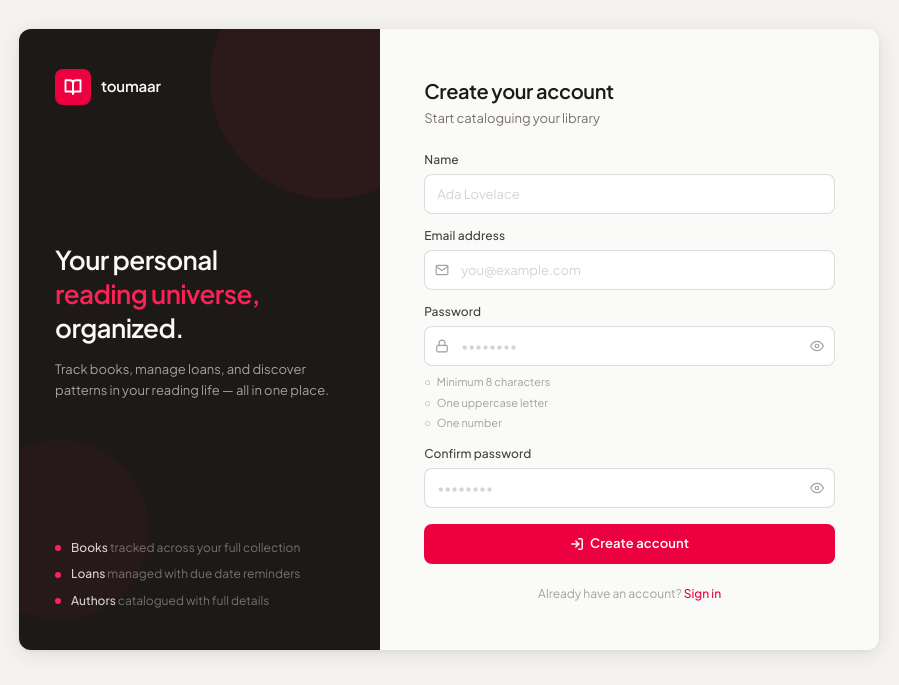
it: SignupPage › shows an error when the passwords do not match
The width and height of the screenshot is (899, 685).
Type "Ada" into the field labelled "Name" at (630,194), box left=424, top=174, right=835, bottom=214
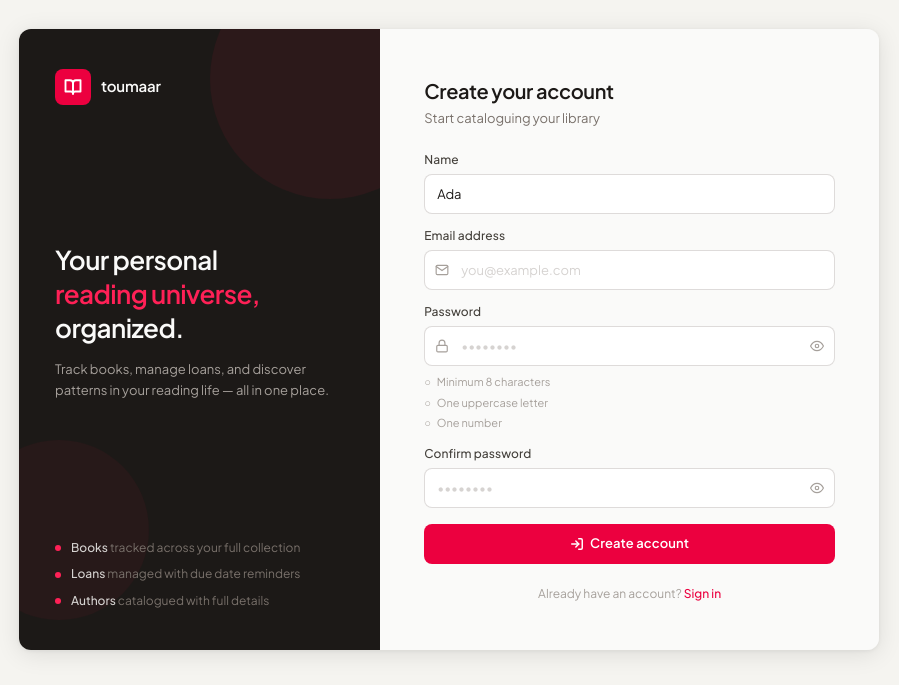
Type "ada@example.com" into the field labelled "Email address" at (630,270), box left=424, top=250, right=835, bottom=290
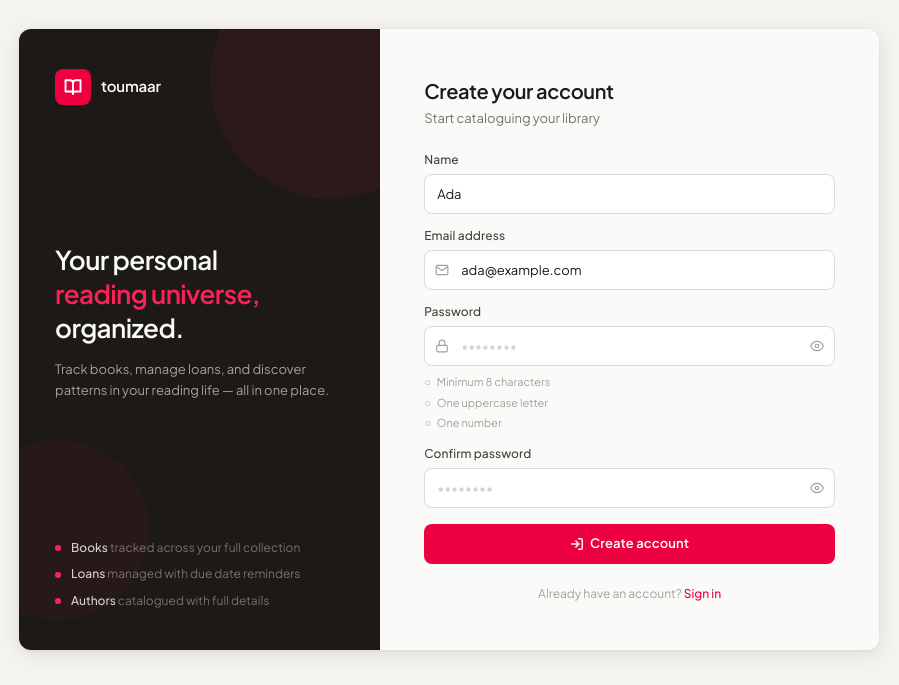
Type "Passw0rd" into the password field labelled "Password" at (630,346), box left=424, top=326, right=835, bottom=366
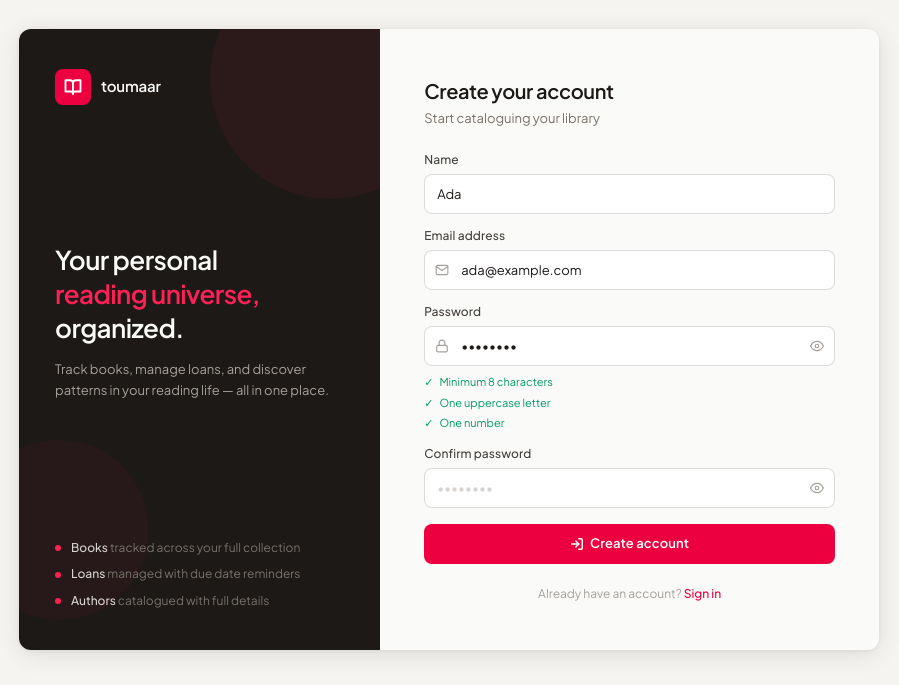
Type "Different1" into the password field labelled "Confirm password" at (630,488), box left=424, top=468, right=835, bottom=508
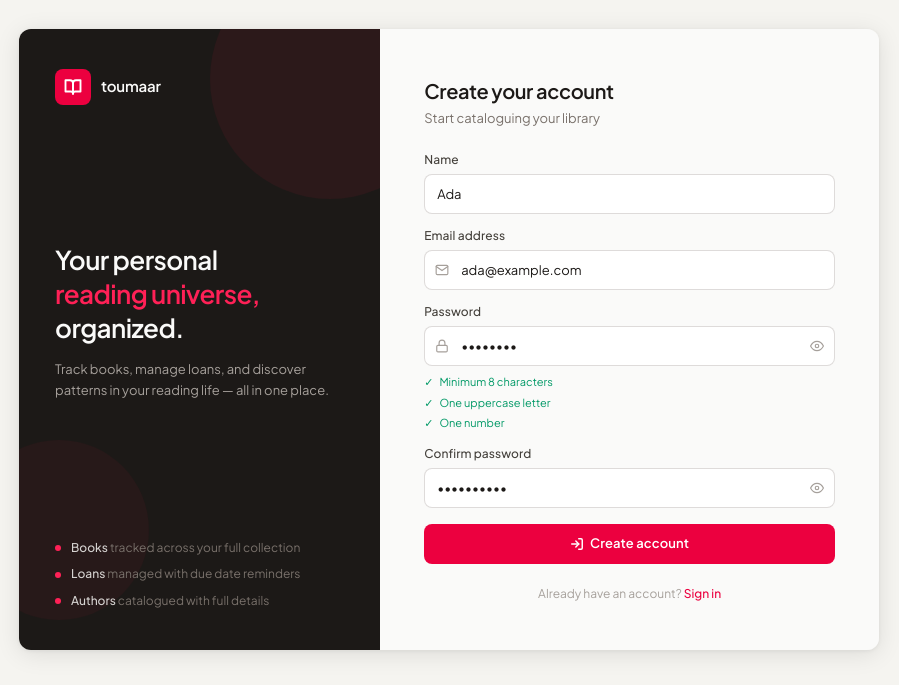
Click the button "Create account" at (630,544), box left=424, top=524, right=835, bottom=564
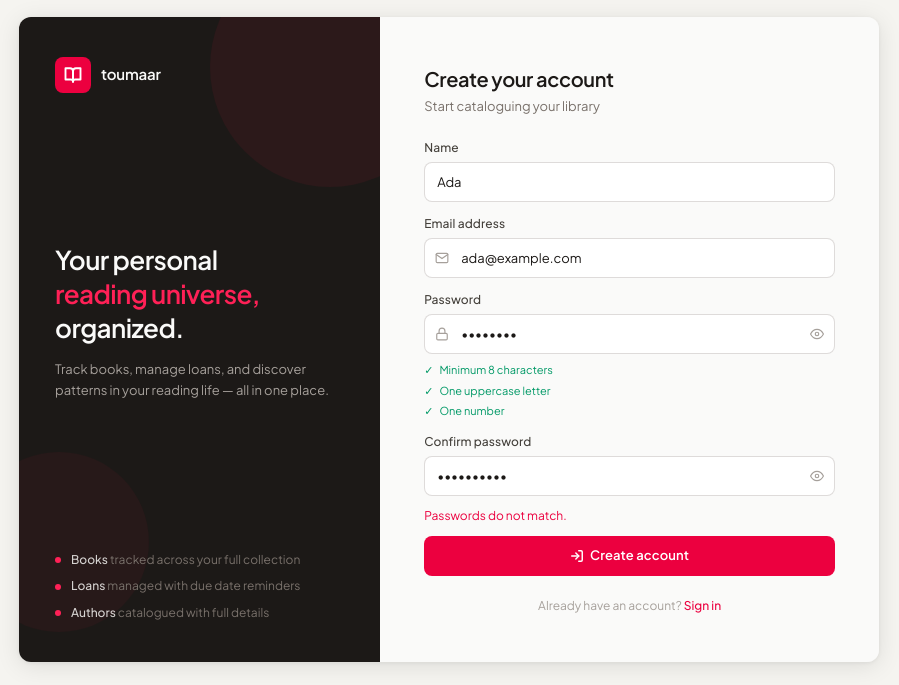
Expected: the text "Passwords do not match." is shown, left=424, top=508, right=567, bottom=522
